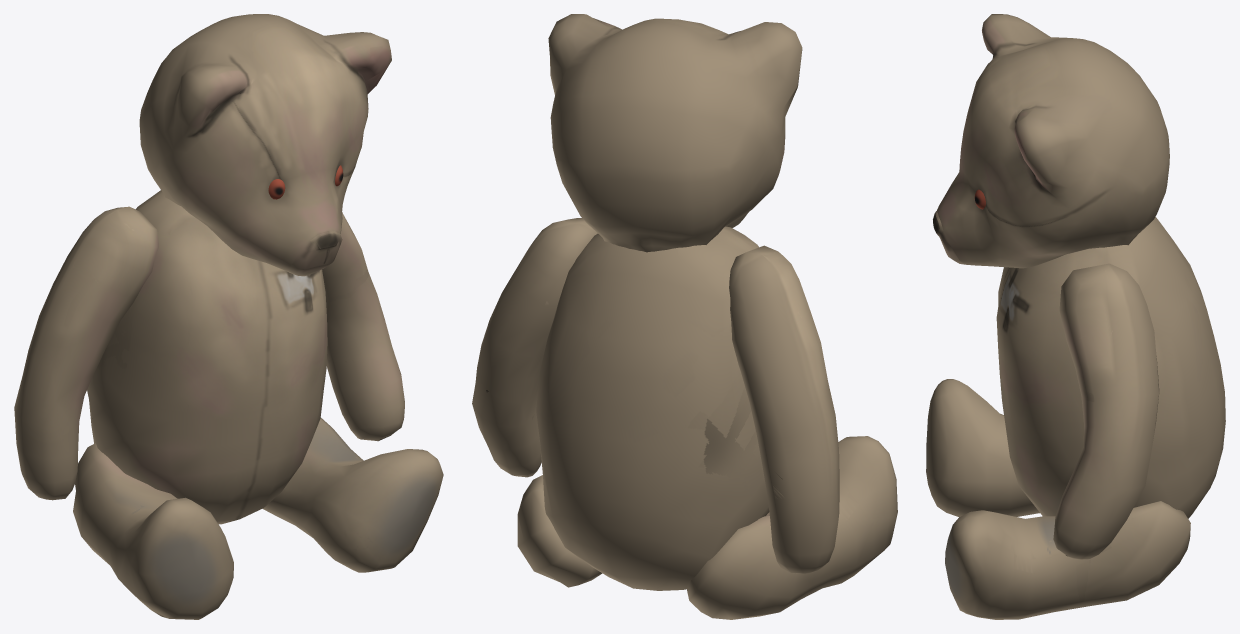
The model's file is Teddy_K.fbx.
3 renders of one model, left to right at view 1: azimuth 30°, elevation 25°; view 2: azimuth 150°, elevation 25°; view 3: azimuth 270°, elevation 25°, orthographic. The views are drawn at different scales.
Parts seen in each view (by area): view 1: Teddy_K; view 2: Teddy_K; view 3: Teddy_K.
Boxes of the visible parts, x1=… form: Teddy_K: x1=14, y1=14, x2=443, y2=619; Teddy_K: x1=472, y1=14, x2=897, y2=619; Teddy_K: x1=926, y1=14, x2=1225, y2=619.
Size of the model in its own units: 53.58 by 76.56 by 39.38.
